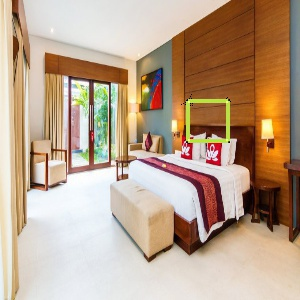square: (182, 96, 233, 145)
